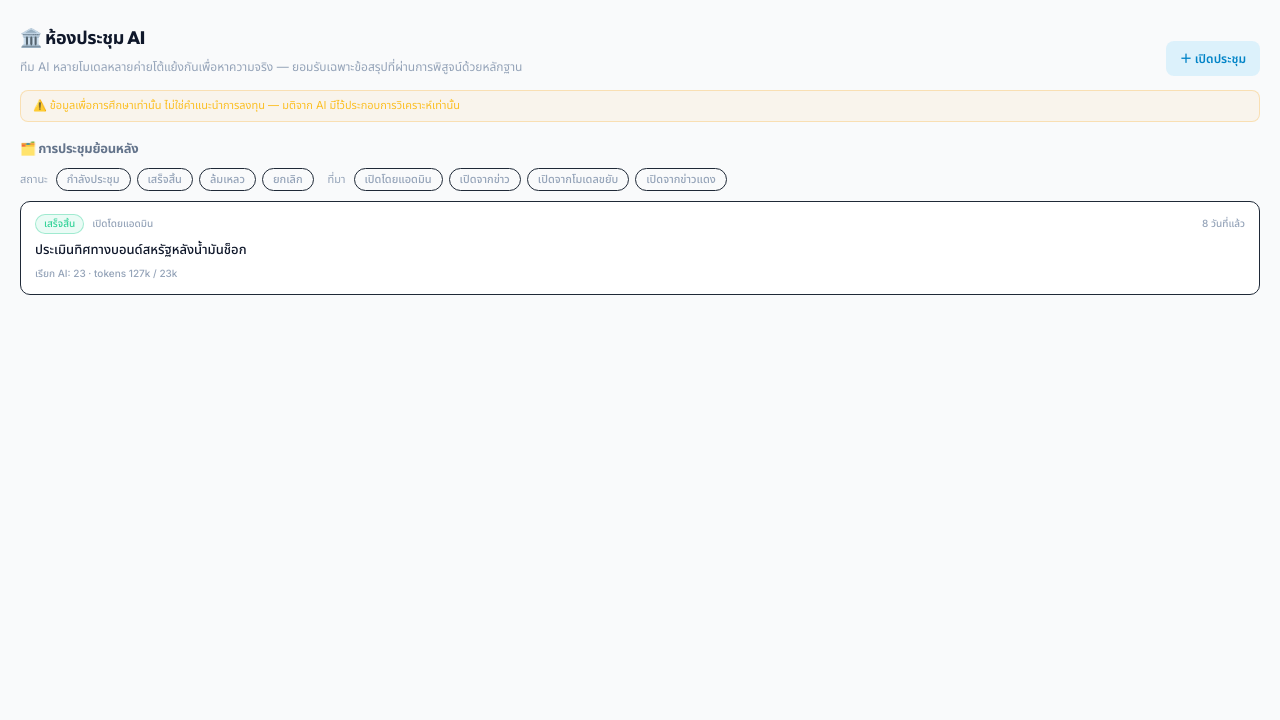
Test: BoardroomDashboard › แสดงมติ + ป้ายผลตรวจสอบ 3 แบบจาก fixture
Click the text "ประเมินทิศทางบอนด์สหรัฐหลังน้ำมันช็อก" at (141, 249), box [35, 241, 246, 257]
(page scrolled)
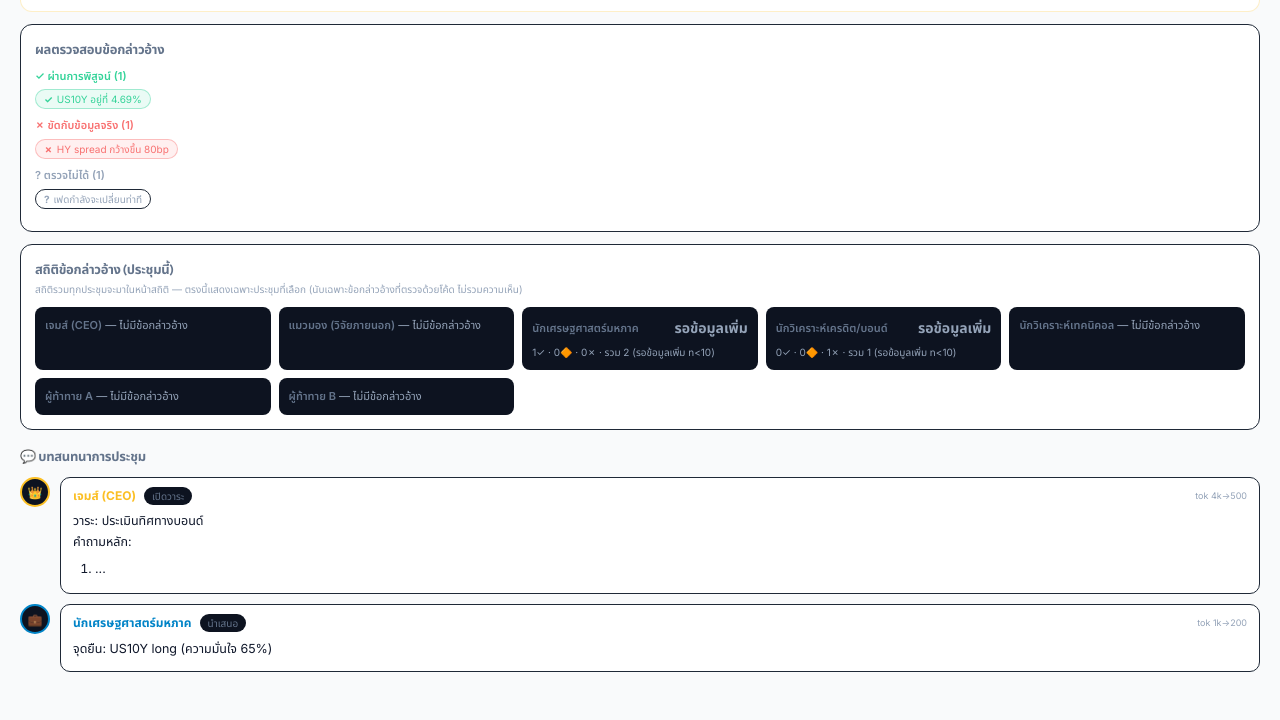
Result: the text "? ตรวจไม่ได้ (1)" is shown at [35, 168, 105, 182]
Result: the text "จุดยืน: US10Y long (ความมั่นใจ 65%)" is shown at [73, 640, 272, 656]
